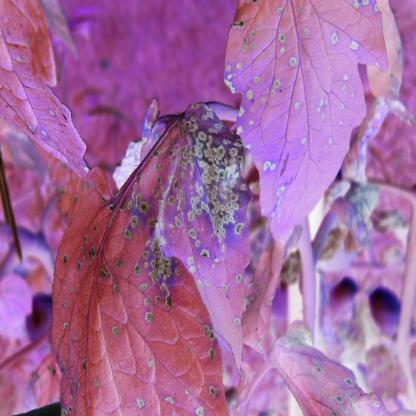Tomato Septoria leaf spot: (53, 100, 245, 416), (215, 0, 387, 251)
